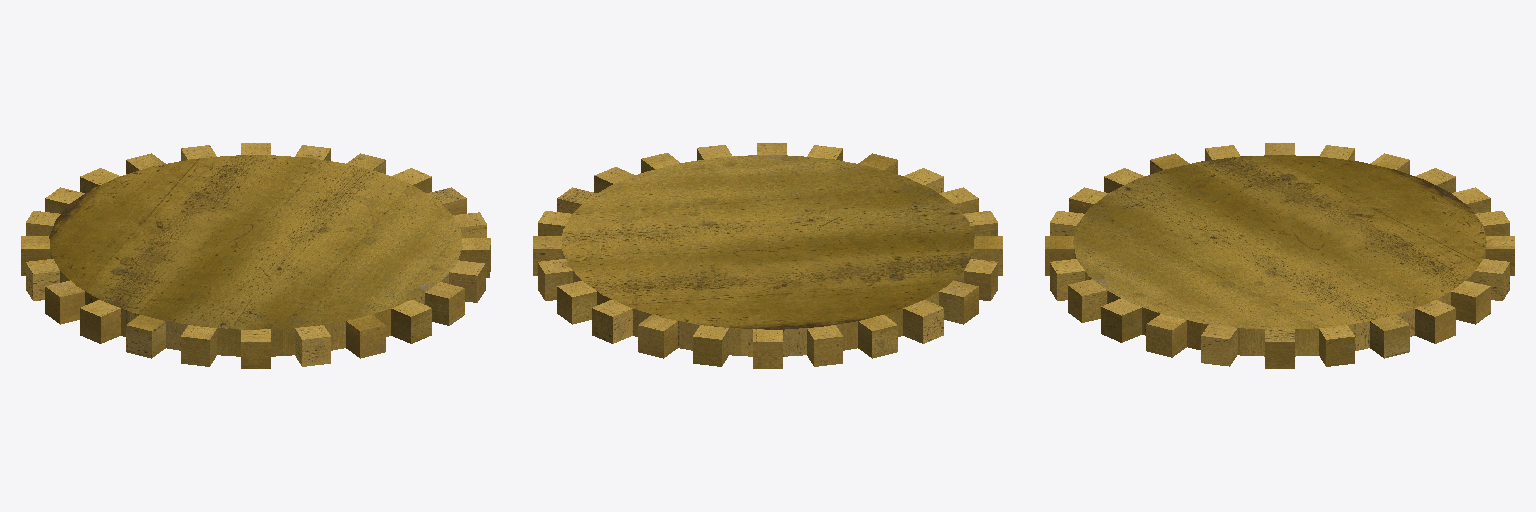
3 views of the same model, side by side, from view 1: azimuth 30°, elevation 25°; view 2: azimuth 150°, elevation 25°; view 3: azimuth 270°, elevation 25° (orthographic).
Parts seen in each view (by area): view 1: Cube.023; view 2: Cube.023; view 3: Cube.023.
Boxes of the visible parts, box(x1,y1,x2,y2) form: Cube.023: box(21, 143, 490, 368); Cube.023: box(533, 143, 1002, 368); Cube.023: box(1045, 143, 1514, 368).
Size of the model in its own units: 1.78 by 0.1138 by 1.78.
Materials: 1 (1 with a texture image).